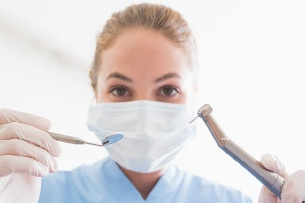Mask: (85, 61, 200, 176)
